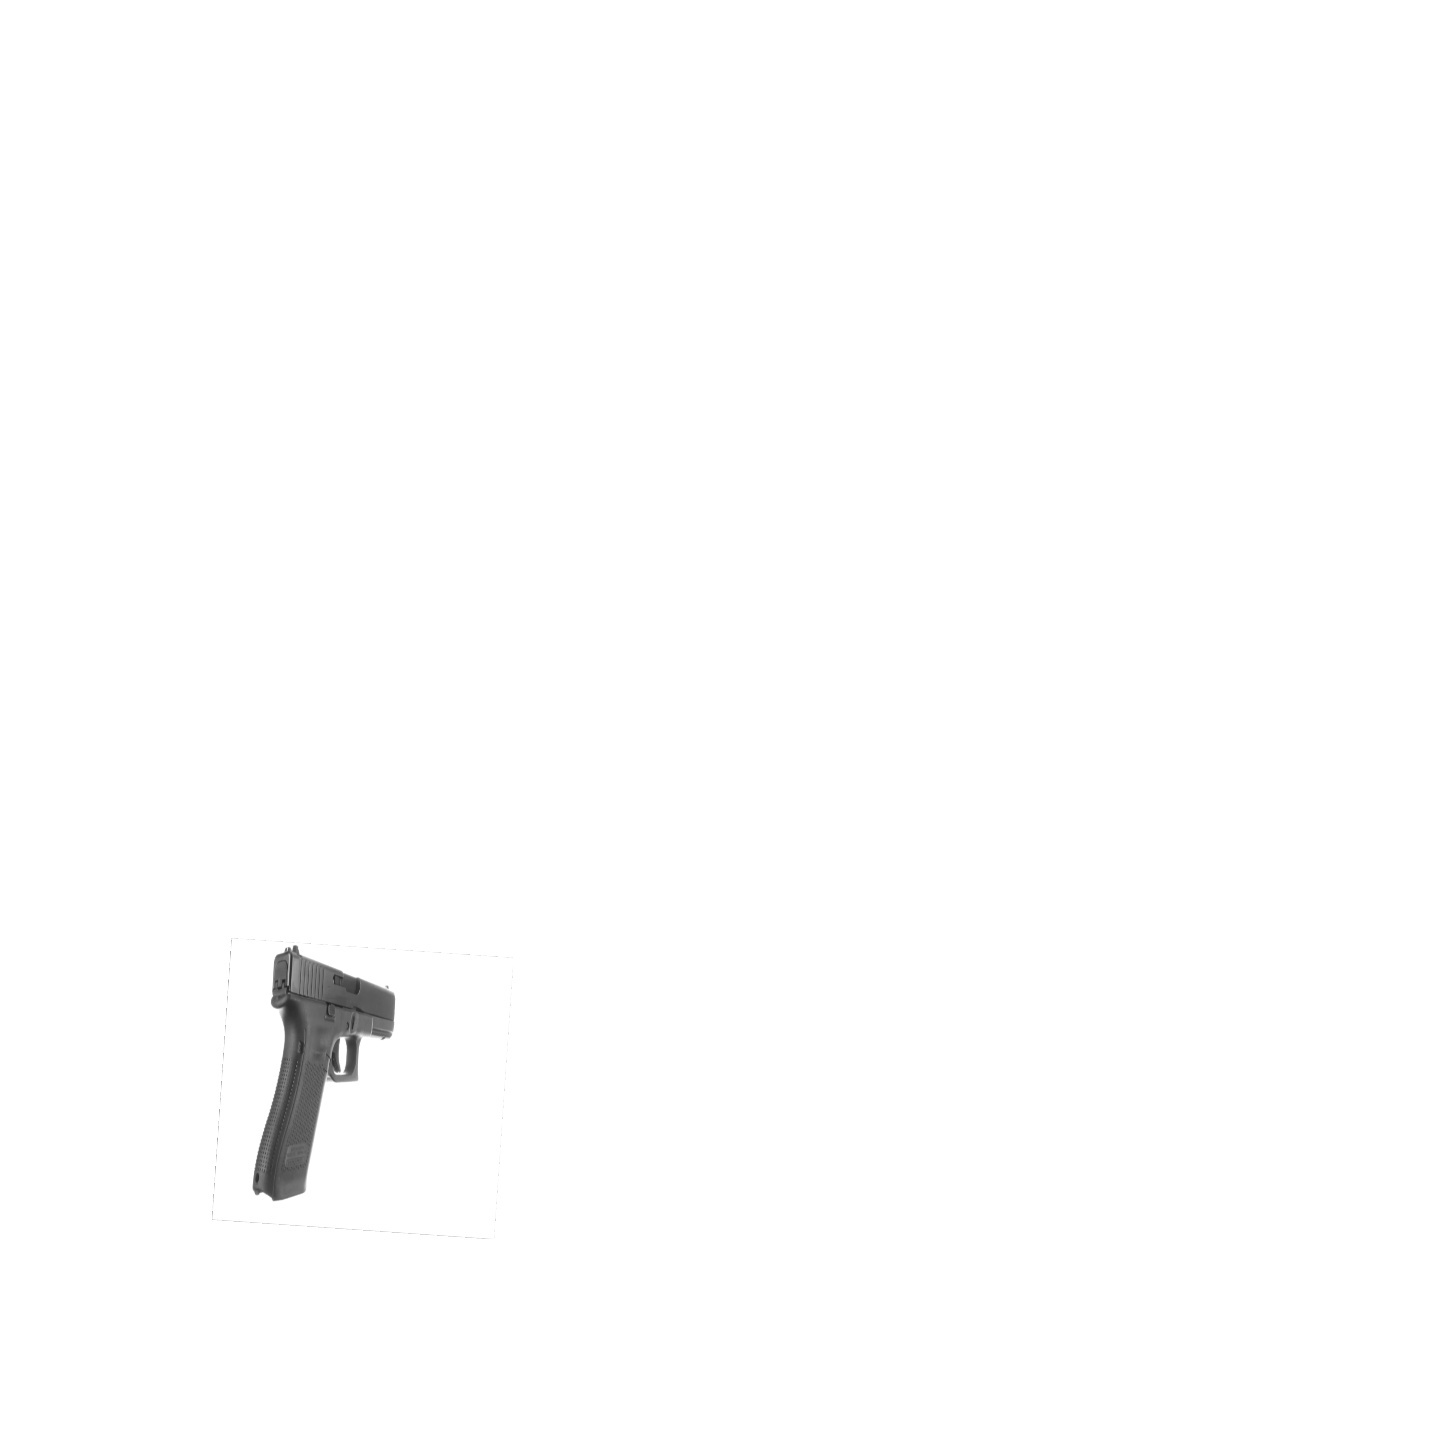gun: (253, 945, 394, 1201)
